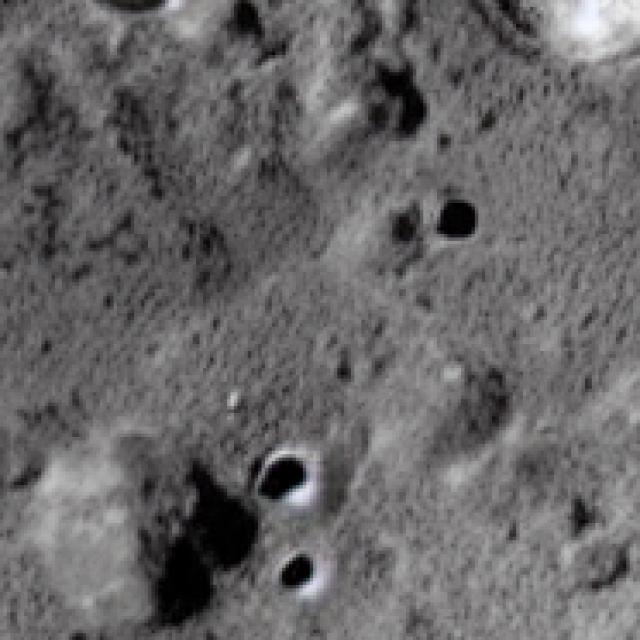Crater: (454, 0, 640, 86)
